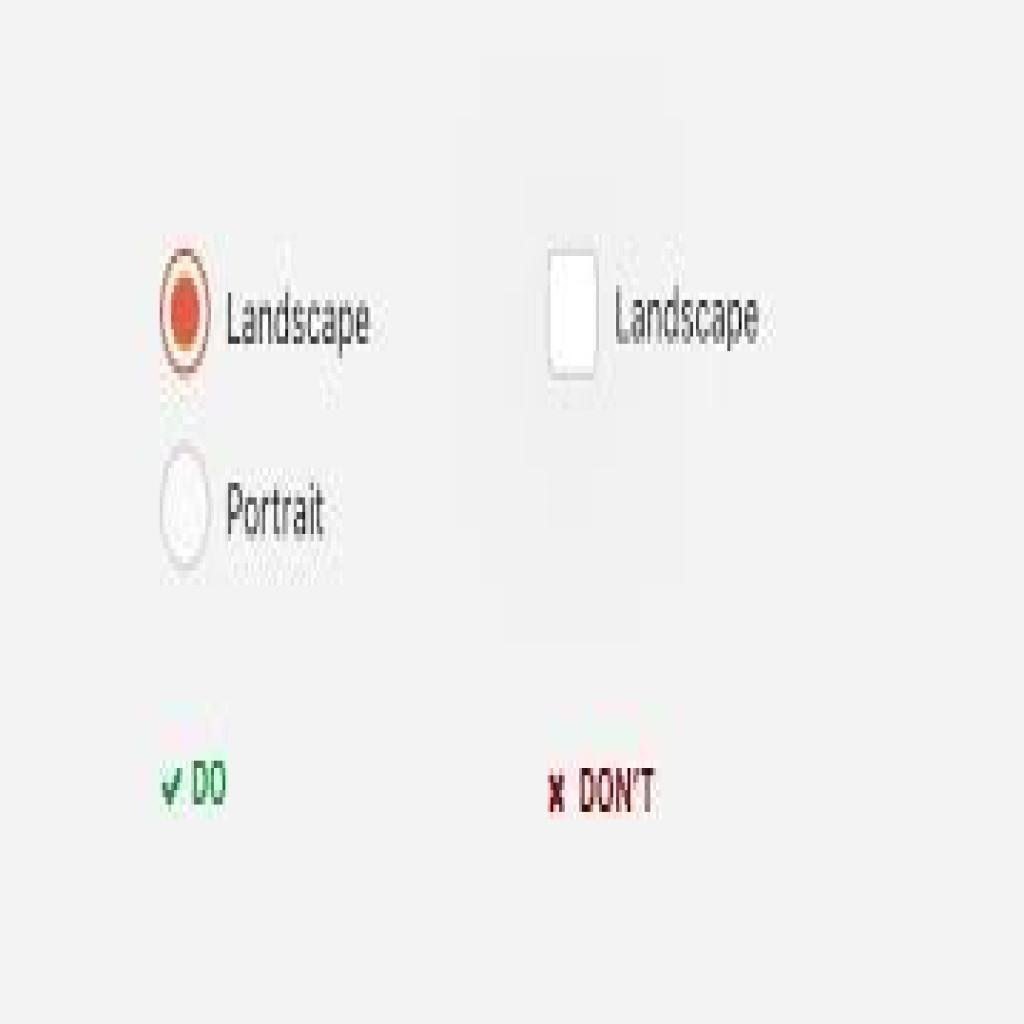checkbox: (546, 252, 596, 380)
radio: (153, 440, 220, 580), (158, 244, 219, 384)
